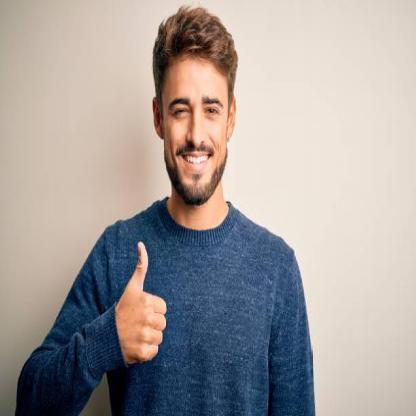thumb_up: (116, 240, 168, 364)
